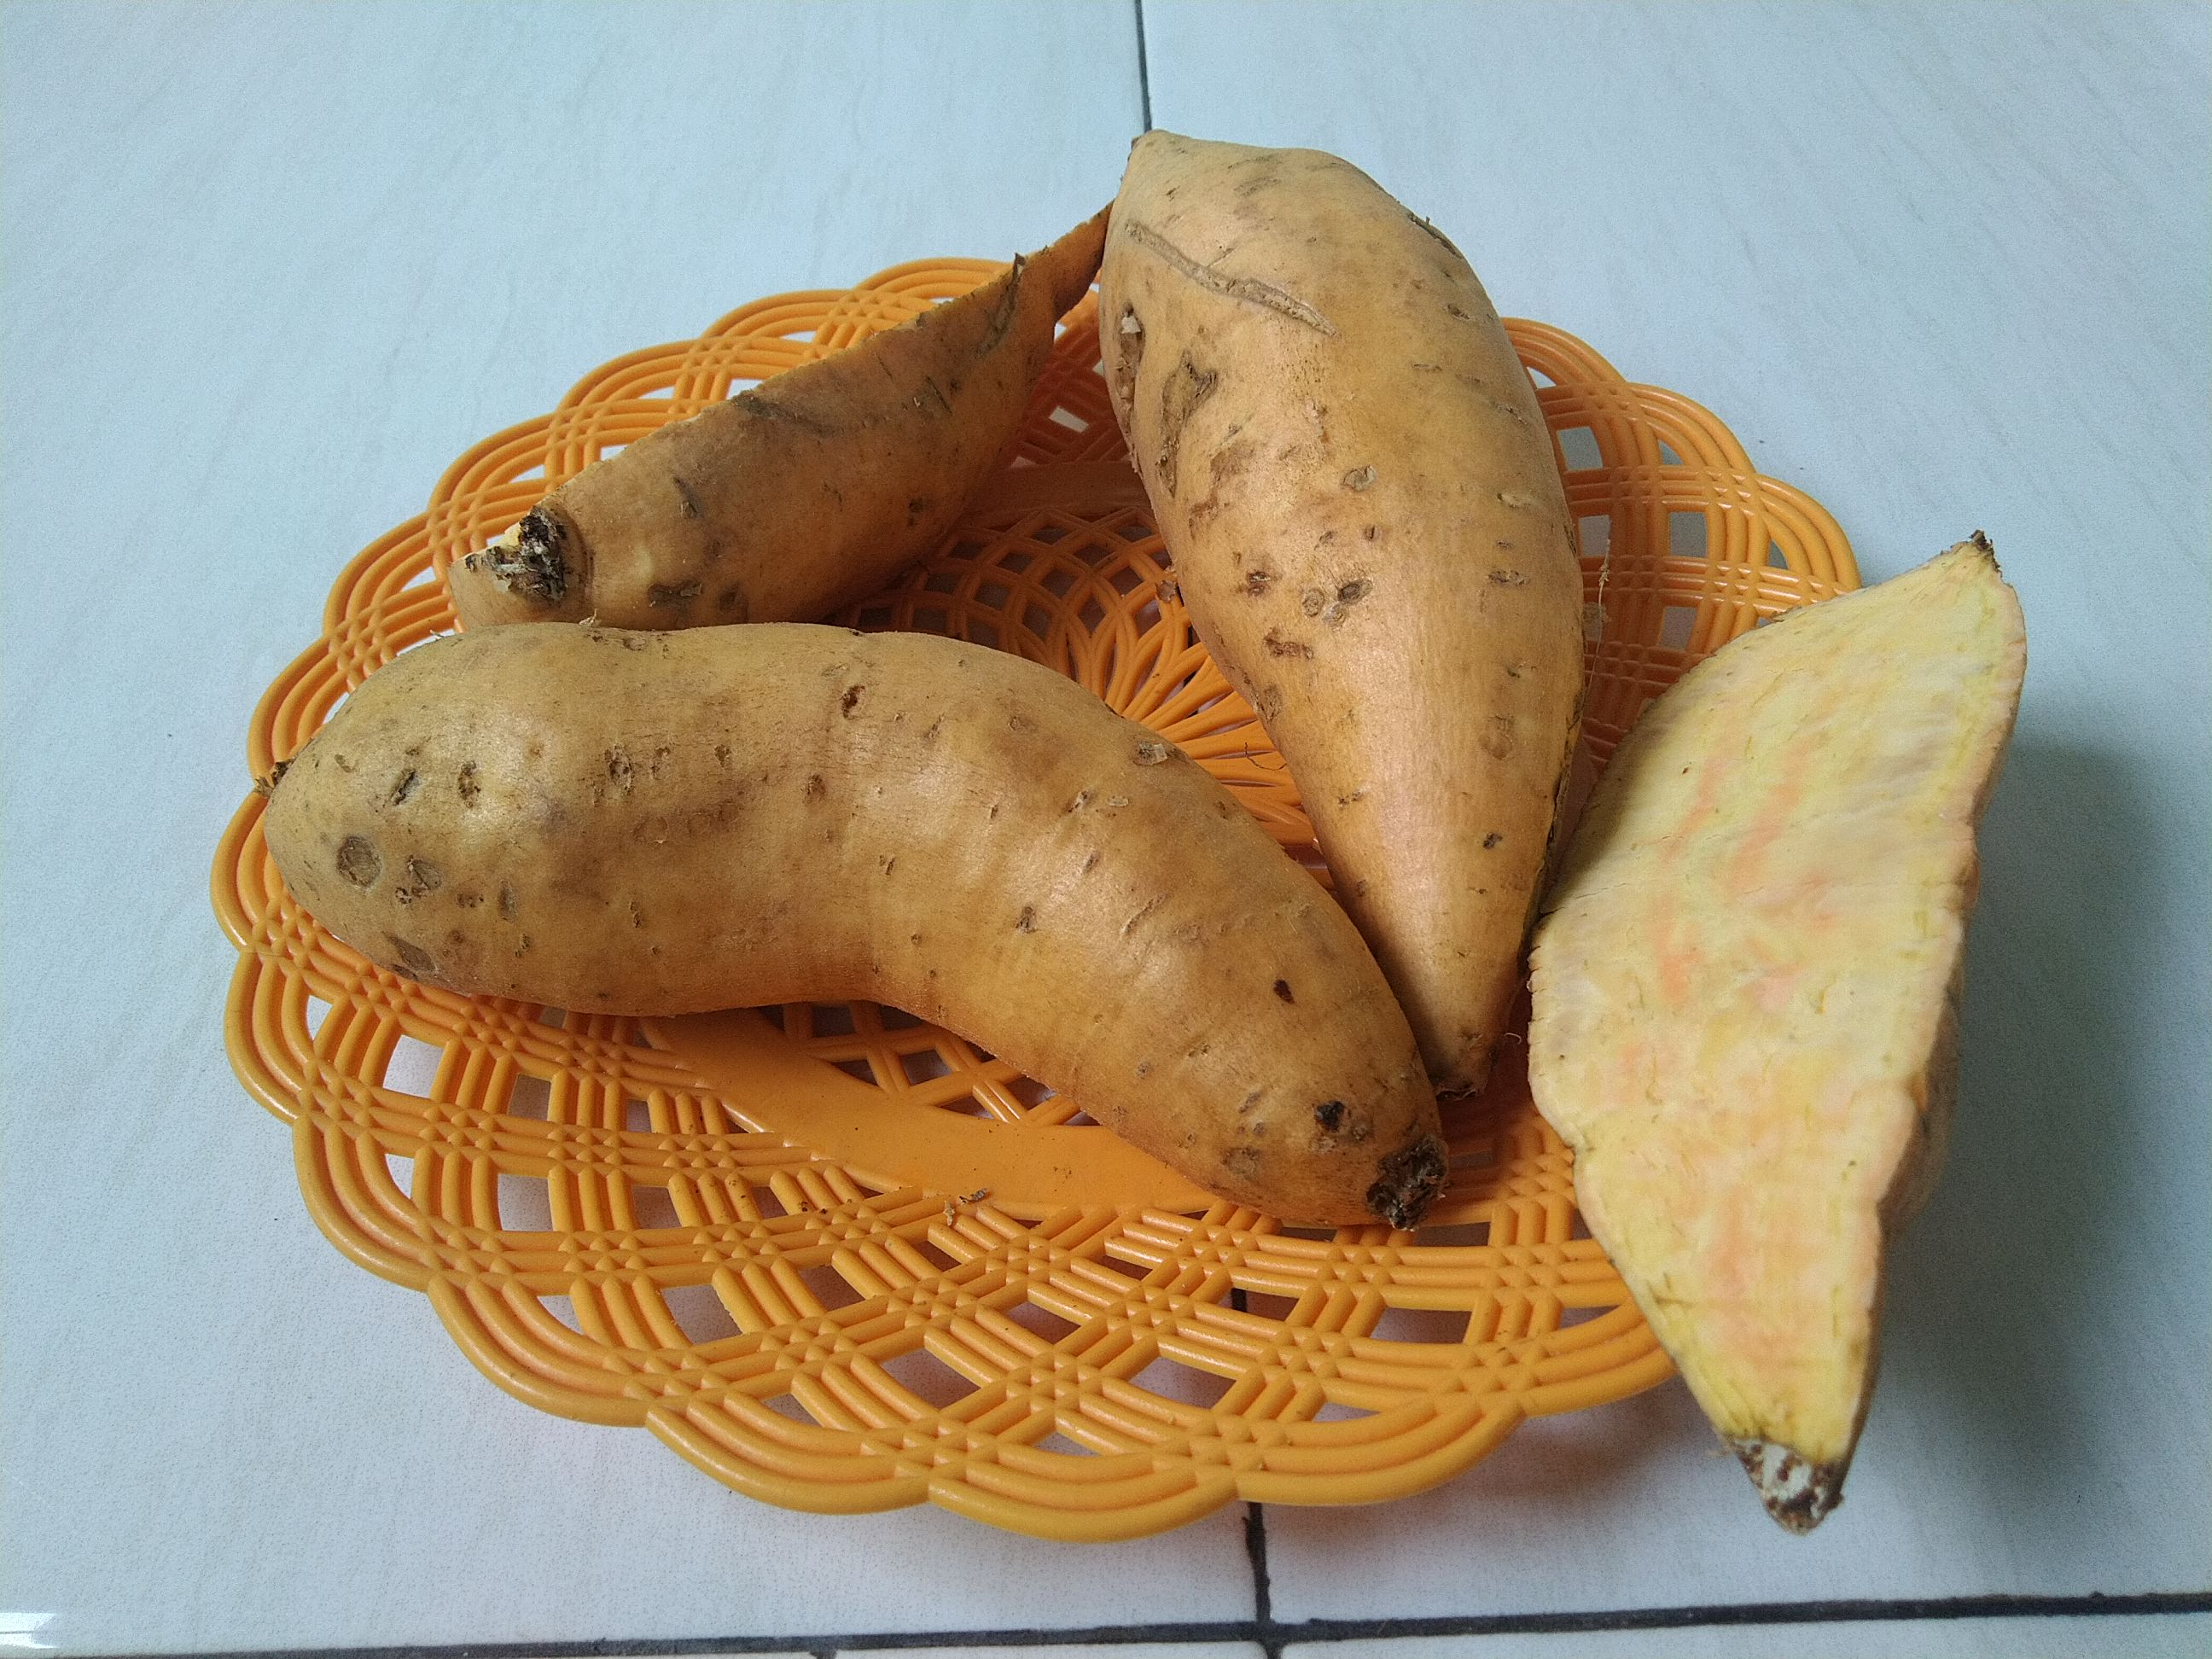ubi cilembu: (261, 606, 1480, 1220), (1517, 533, 2036, 1577), (1097, 127, 1588, 1122), (442, 169, 1125, 633)
